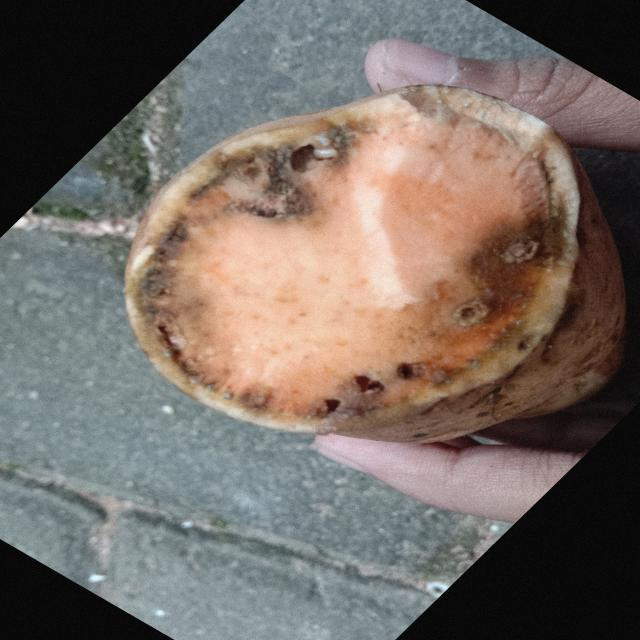Sick Sweet Potato_Tuber Rot: (125, 85, 580, 441)
